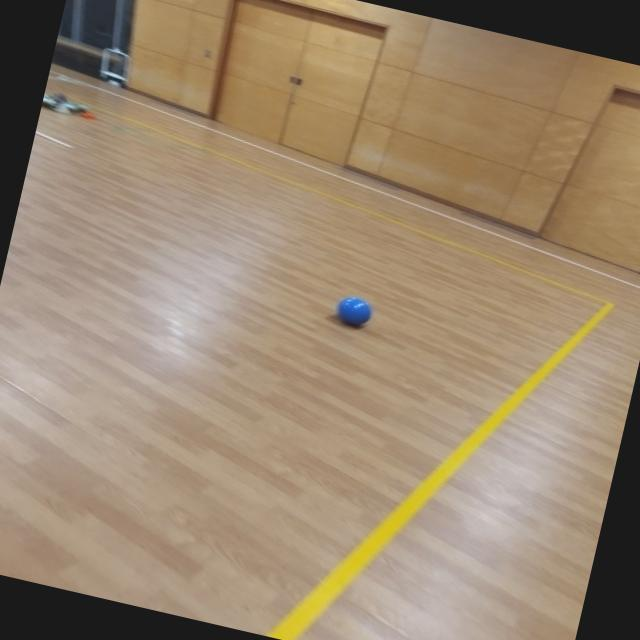blue_ball: (336, 293, 376, 331)
